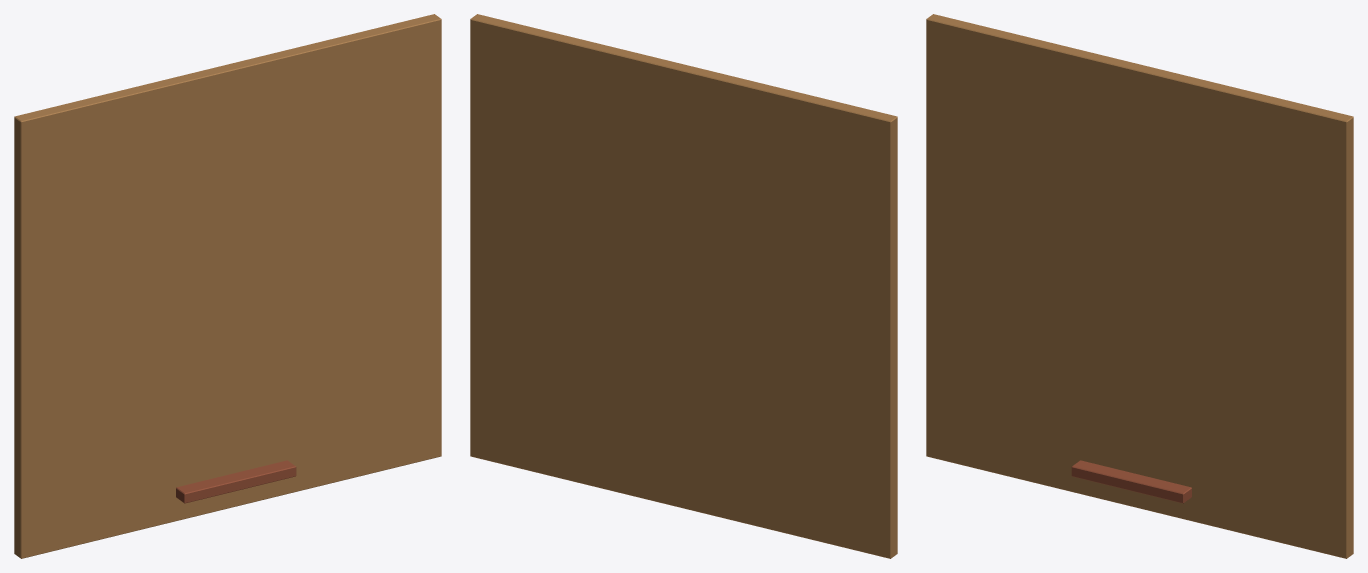
The model's file is wall_cabinet_liftup_door_lift_door.glb.
The picture shows the model from 3 angles, left to right: view 1: azimuth 30°, elevation 25°; view 2: azimuth 150°, elevation 25°; view 3: azimuth 330°, elevation 25°; orthographic projection.
Parts seen in each view (by area): view 1: wall_cabinet_liftup_door_lift_door.001; view 2: wall_cabinet_liftup_door_lift_door.001; view 3: wall_cabinet_liftup_door_lift_door.001.
Boxes of the visible parts, box(x1,y1,x2,y2) form: wall_cabinet_liftup_door_lift_door.001: box(14, 14, 441, 558); wall_cabinet_liftup_door_lift_door.001: box(470, 14, 897, 558); wall_cabinet_liftup_door_lift_door.001: box(926, 14, 1353, 558).
Bounding box in the file's own units: 0.6 × 0.596 × 0.04.
